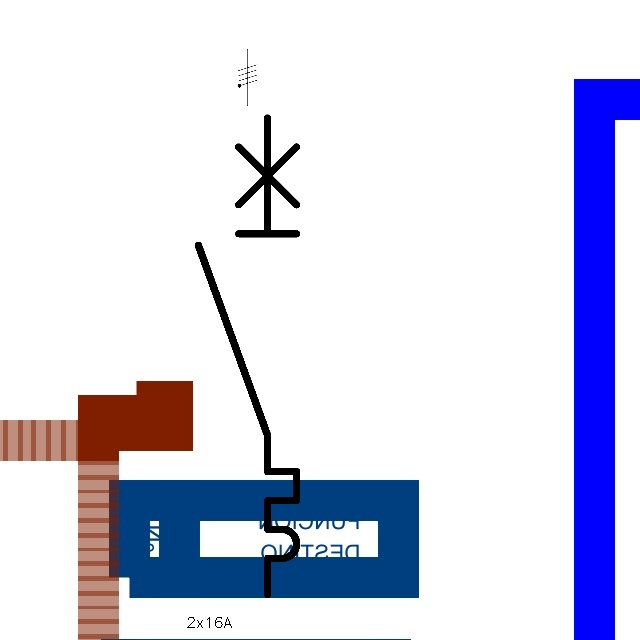interruptor_termomagnetico: (186, 105, 309, 607)
